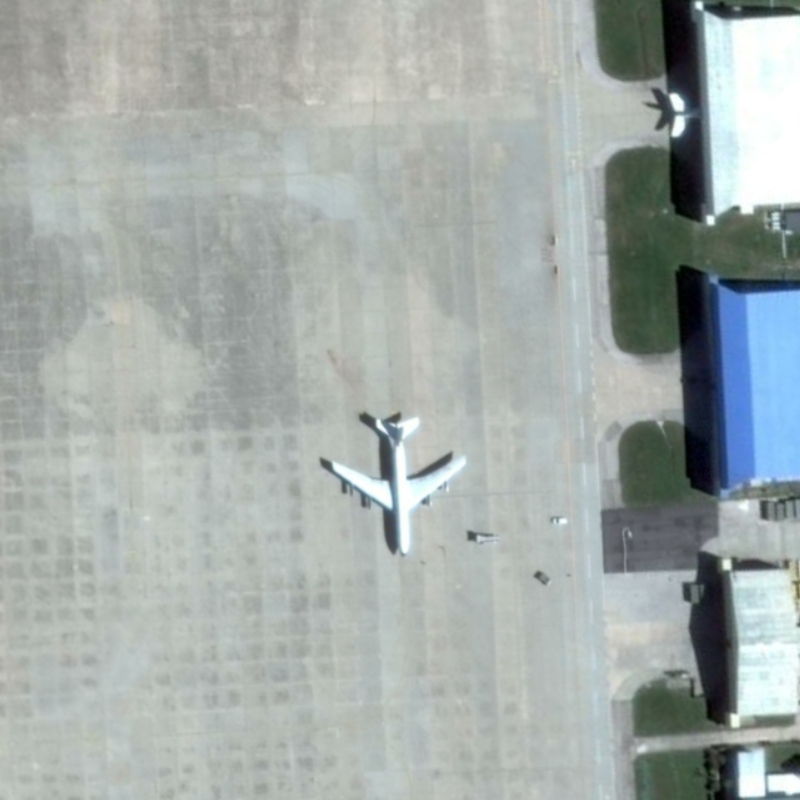A11: (319, 405, 473, 562)
